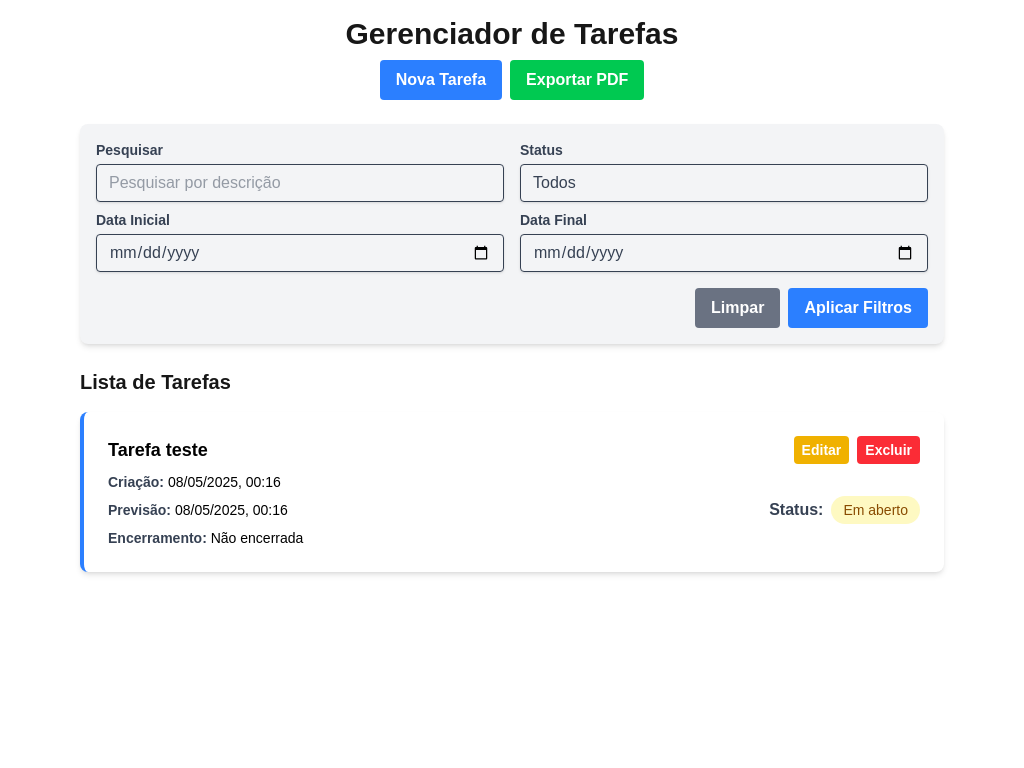
Test: Tarefas › should show success message when updating a task
The image size is (1024, 768).
Click the button "Editar" at coordinates (821, 450), box [794,436,849,464]
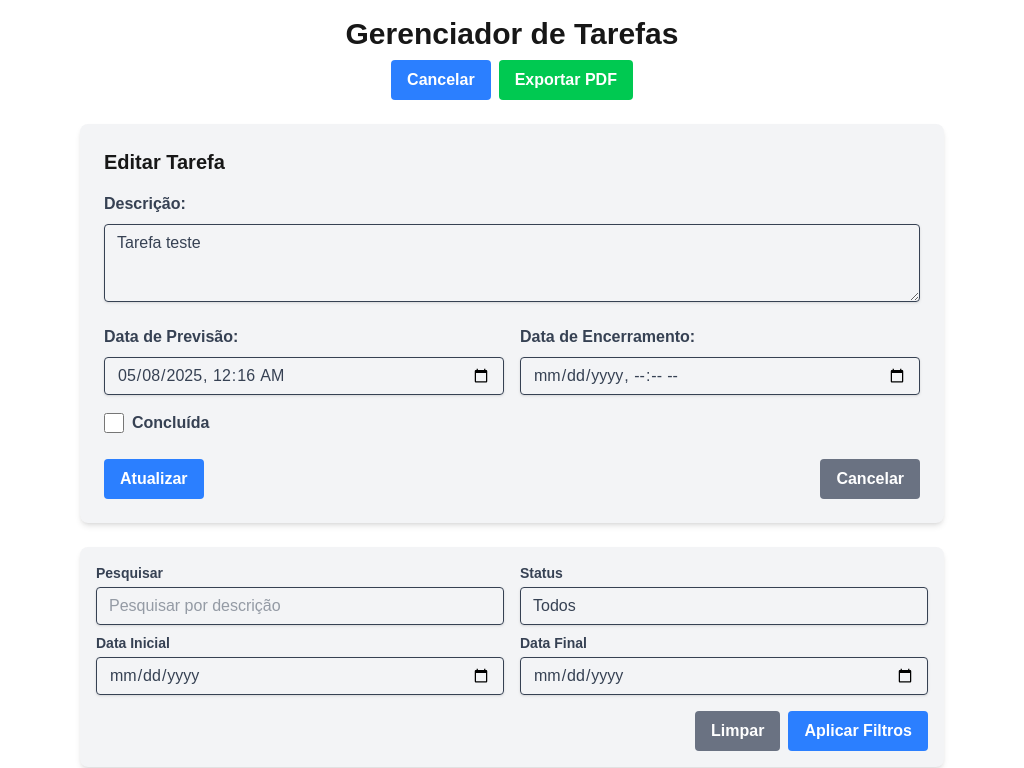
Replace the text in the text box labelled "Descrição:" with "Tarefa atualizada" at coordinates (512, 263), box [104,224,920,302]
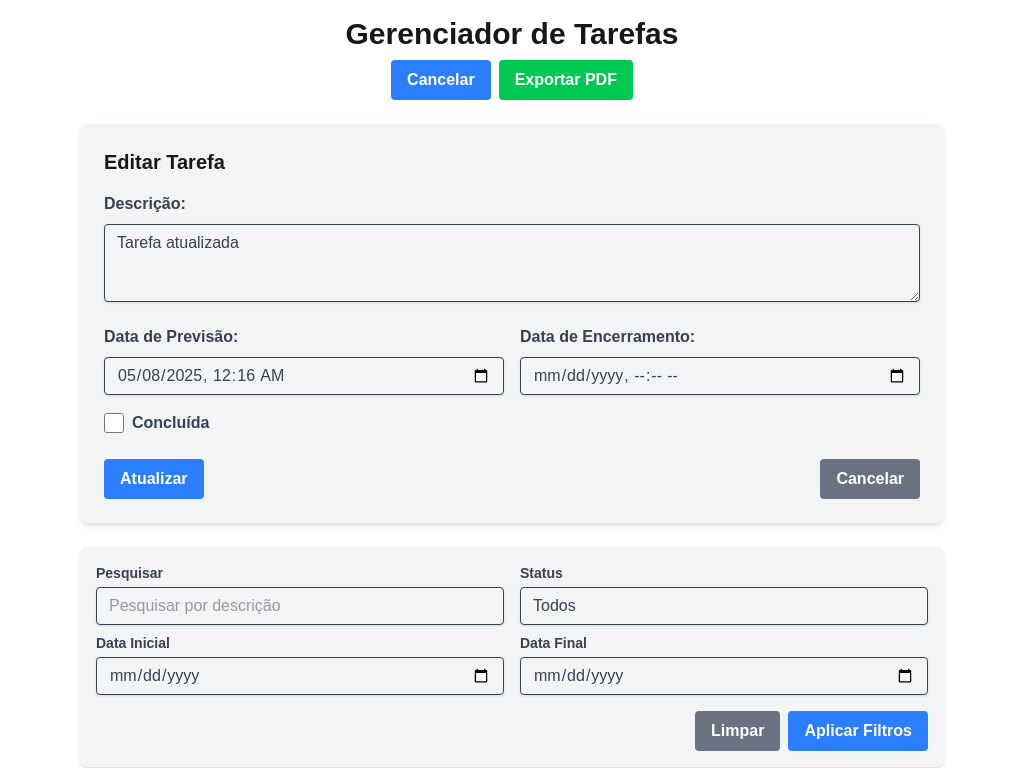
Click the button "Atualizar" at coordinates (154, 479), box [104,459,204,499]
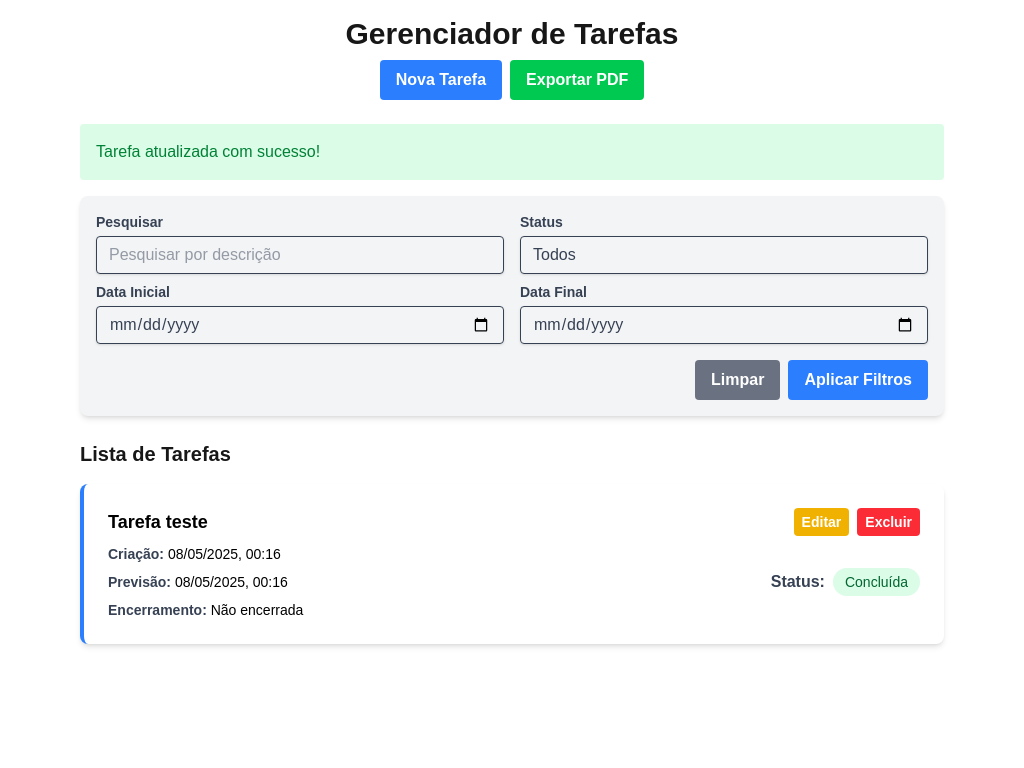
expect the text "Tarefa atualizada com sucesso!" is shown: met, box [80,124,944,180]
